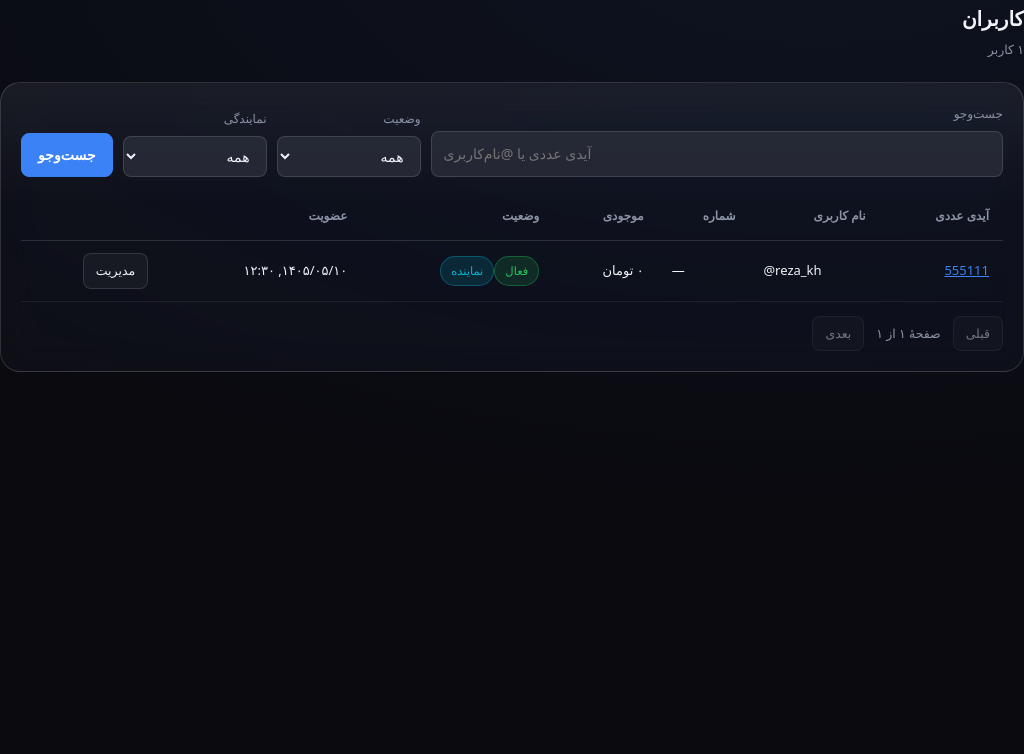
Test: saving › says «—» rather than zero when the server sent no payment figures
This screenshot has width=1024, height=754.
Click the button "مدیریت": click(116, 271) [83, 253, 148, 289]
(page scrolled)
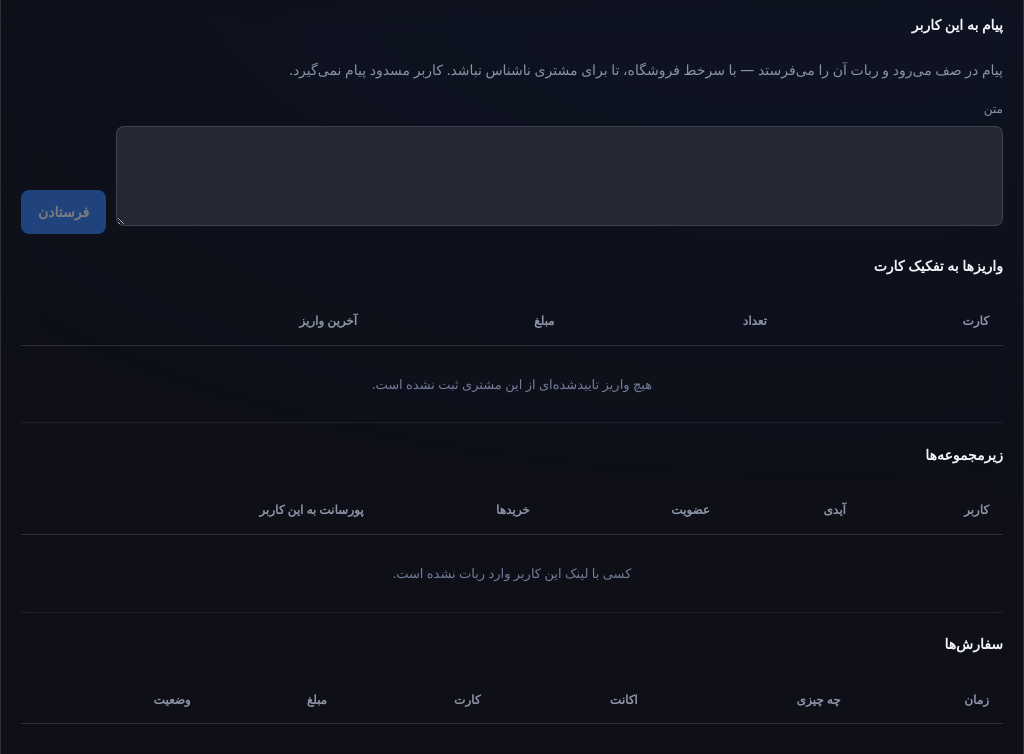
Result: the text "هیچ واریز تاییدشده‌ای از این مشتری ثبت نشده است." is shown at [21, 345, 1003, 423]
